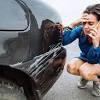rear-bumper-dent: (0, 48, 72, 99)
